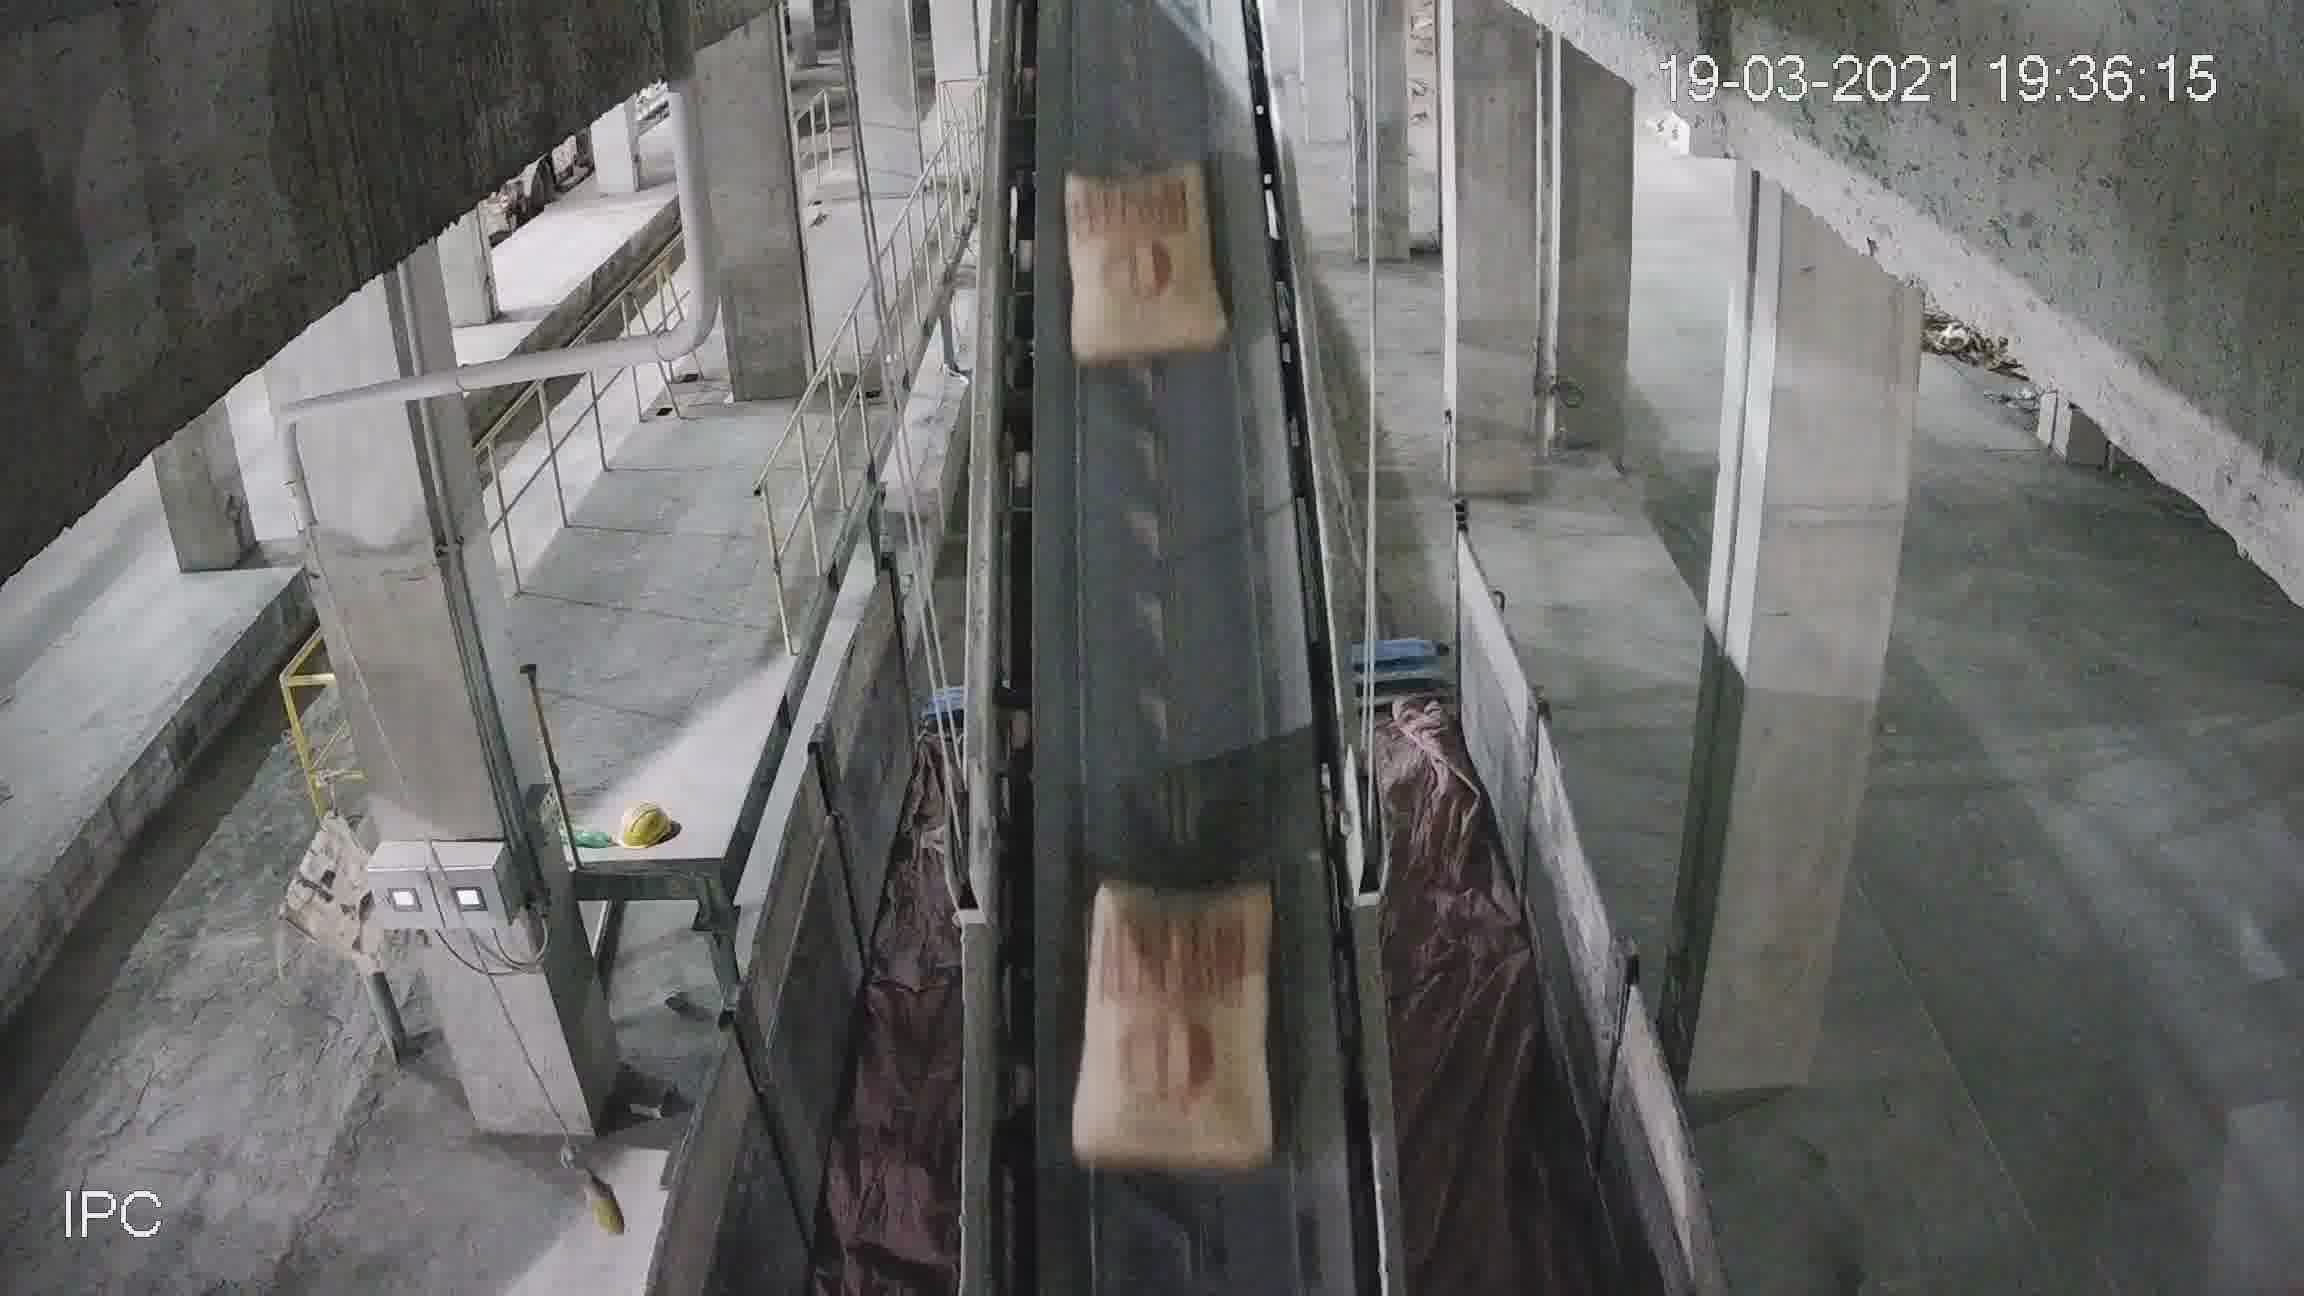bag: (1081, 889, 1277, 1180), (1063, 168, 1223, 362)
belt: (967, 104, 1386, 1296)
